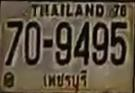0: (24, 21, 40, 64)
4: (73, 21, 89, 64)
5: (110, 21, 126, 64)
7: (5, 20, 22, 65)
9: (55, 21, 71, 64), (92, 21, 108, 64)
PBI: (40, 69, 90, 92)
